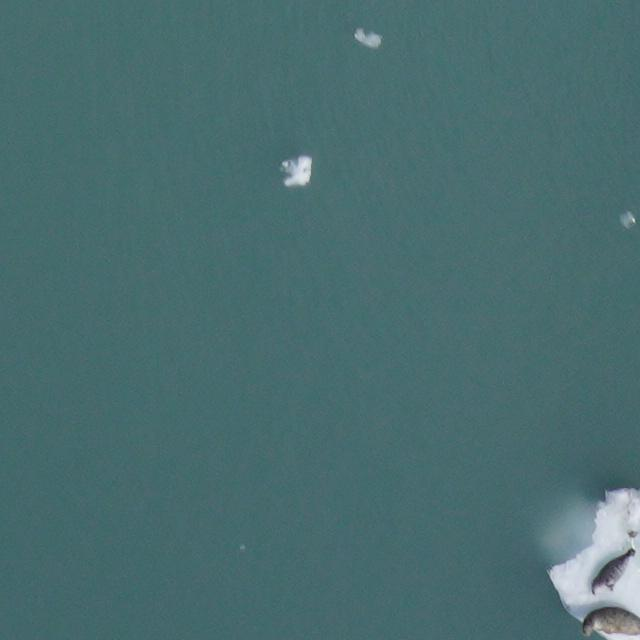seal: (584, 607, 639, 636)
